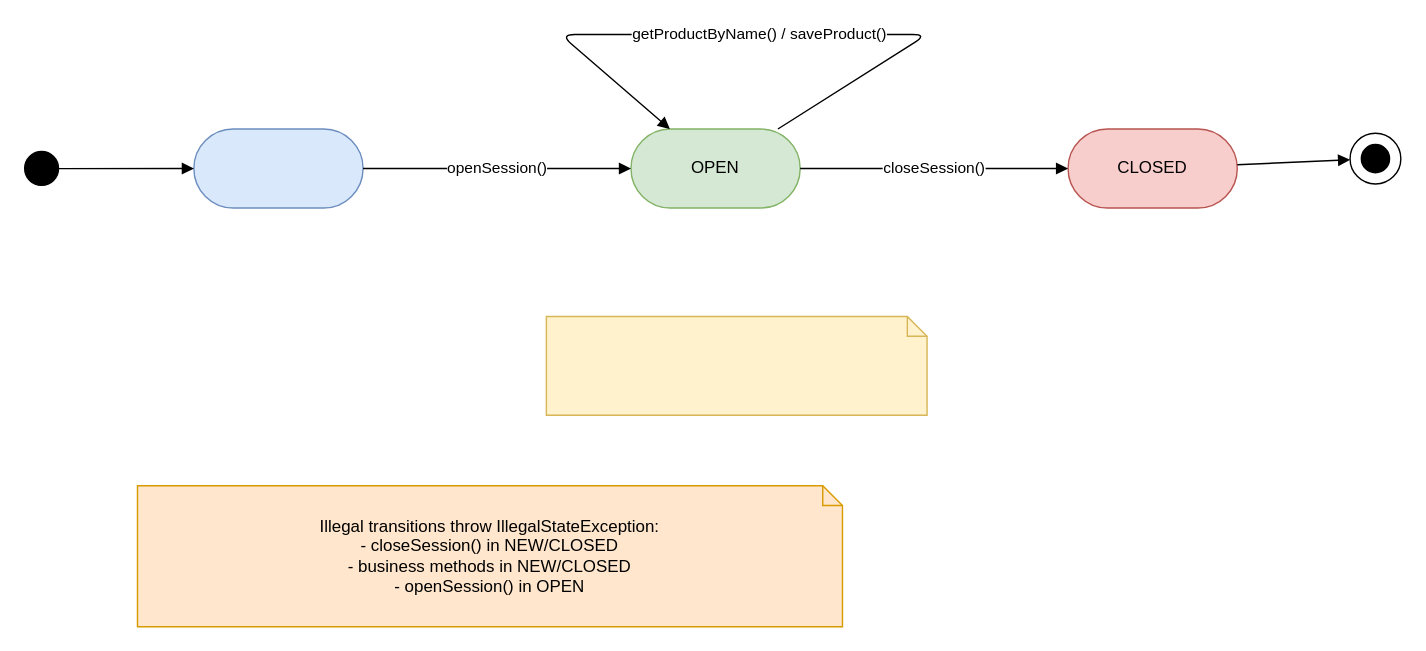
This 1426x651 diagram has some shape labels left out. The shapes that lost their labels are listed below. From the top down, each one's centre as x and y in pixels, then its label:
At point (277, 168): "NEW".
At point (736, 365): "Business calls allowed only in OPEN: getProductByName(), saveProduct()".
